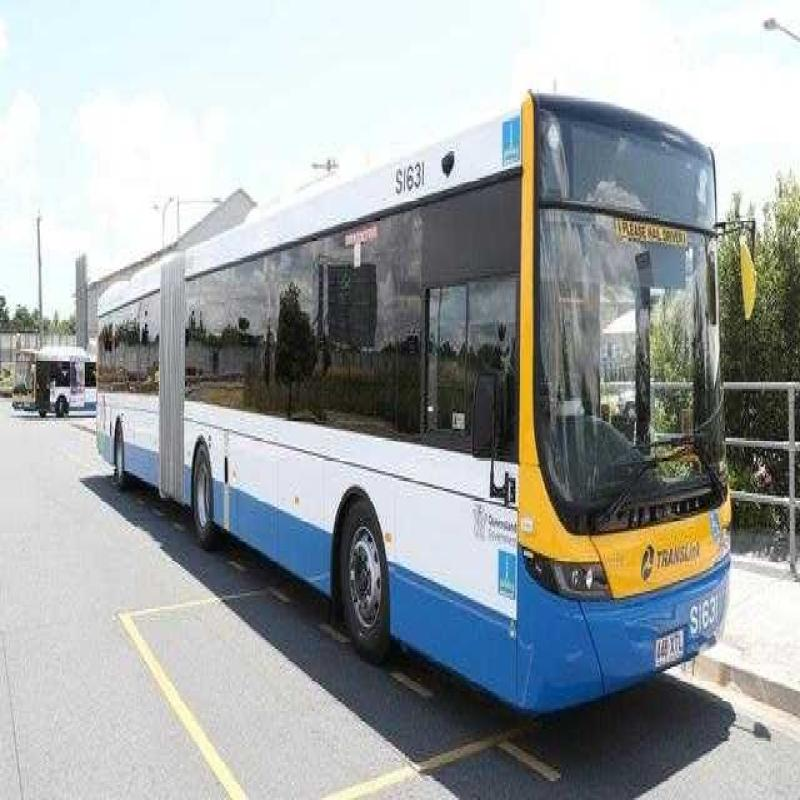bus: (80, 87, 727, 719)
